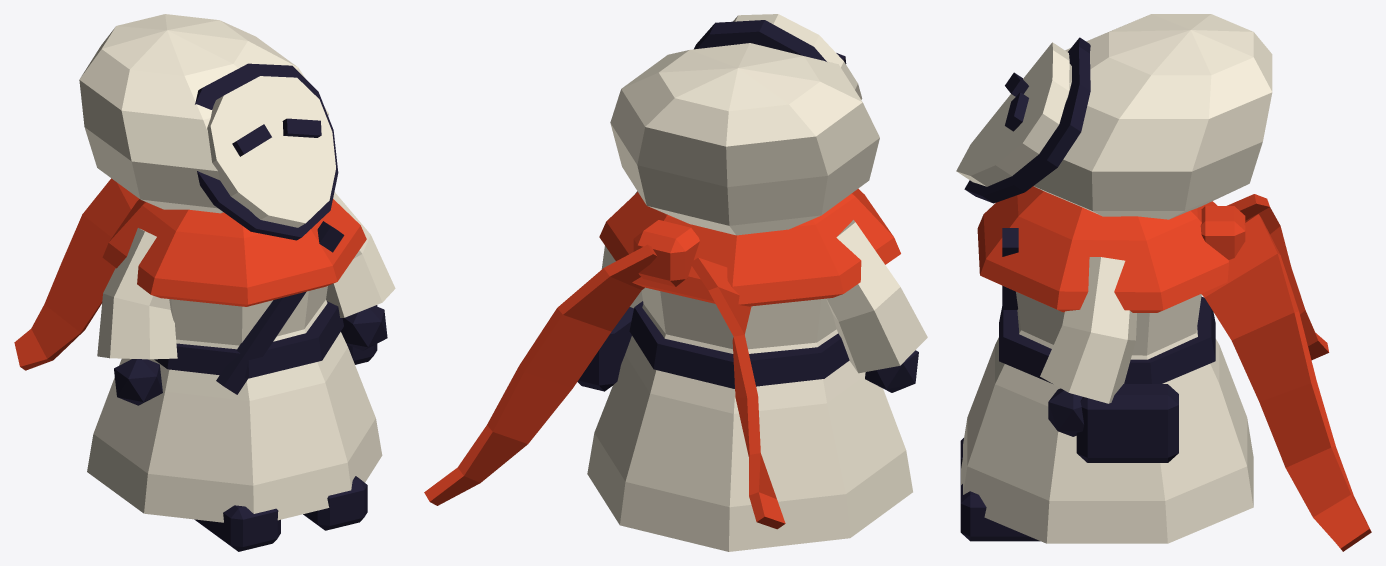
Rendered from courier_body.glb.
The picture shows the model from 3 angles, left to right: view 1: azimuth 30°, elevation 25°; view 2: azimuth 150°, elevation 25°; view 3: azimuth 270°, elevation 25°; orthographic projection. The views are drawn at different scales.
Parts seen in each view (by area): view 1: courier_body_body, courier_body_scarf, courier_body_head, courier_body_mask; view 2: courier_body_body, courier_body_head, courier_body_scarf, courier_body_mask; view 3: courier_body_body, courier_body_scarf, courier_body_head, courier_body_mask.
Boxes of the visible parts, x1,y1,x2,y2 form: courier_body_body: (87,192,395,551); courier_body_scarf: (14,178,366,370); courier_body_head: (79,14,328,213); courier_body_mask: (195,63,338,240); courier_body_body: (577,191,927,551); courier_body_head: (610,43,879,235); courier_body_scarf: (424,188,900,529); courier_body_mask: (694,14,862,99); courier_body_body: (960,228,1253,543); courier_body_scarf: (977,186,1371,551); courier_body_head: (1033,14,1272,219); courier_body_mask: (956,37,1090,203).
Bounding box in the file's own units: 0.5784 × 0.7525 × 0.6095.
